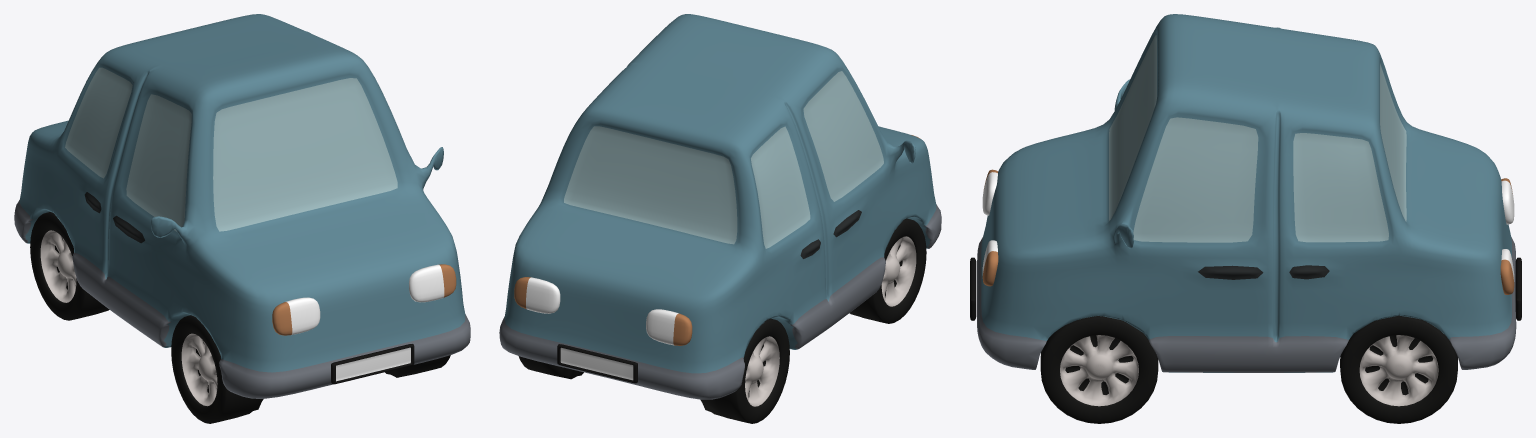
Rendered from car2-2(2)fixed.fbx.
3 views of the same model, side by side, from view 1: azimuth 30°, elevation 25°; view 2: azimuth 150°, elevation 25°; view 3: azimuth 270°, elevation 25° (orthographic). The views are drawn at different scales.
Parts seen in each view (by area): view 1: Cube, Cylinder.006, Cube.004, Cube.002; view 2: Cube, Cylinder.006, Cube.004, Cube.002; view 3: Cube, Cylinder.006, Cube.004, Cube.002.
Boxes of the visible parts, box(x1,y1,x2,y2) form: Cube: box(14, 14, 470, 398); Cylinder.006: box(30, 212, 450, 423); Cube.004: box(272, 264, 456, 335); Cube.002: box(331, 344, 414, 384); Cube: box(499, 14, 941, 399); Cylinder.006: box(518, 218, 926, 423); Cube.004: box(514, 133, 920, 345); Cube.002: box(557, 344, 637, 383); Cube: box(977, 14, 1516, 372); Cylinder.006: box(1040, 315, 1457, 423); Cube.004: box(982, 169, 1514, 294); Cube.002: box(970, 257, 1521, 320).
Bounding box in the file's own units: 479 × 466 × 737.
